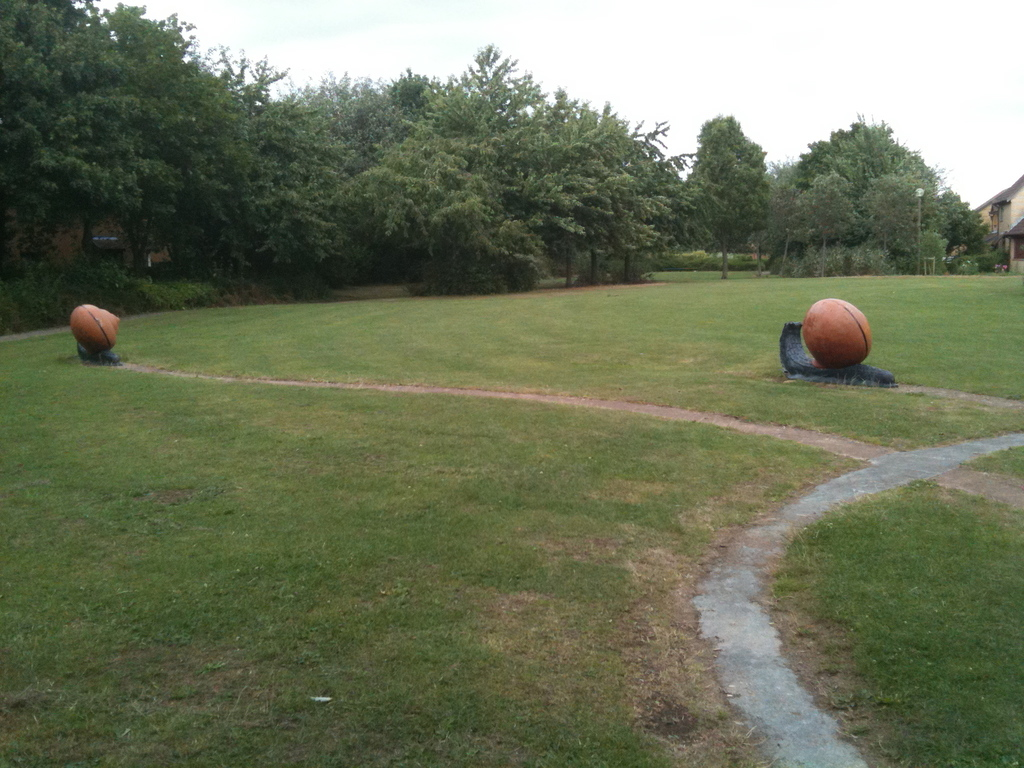Ball: (803, 298, 872, 364), (72, 307, 116, 353)
